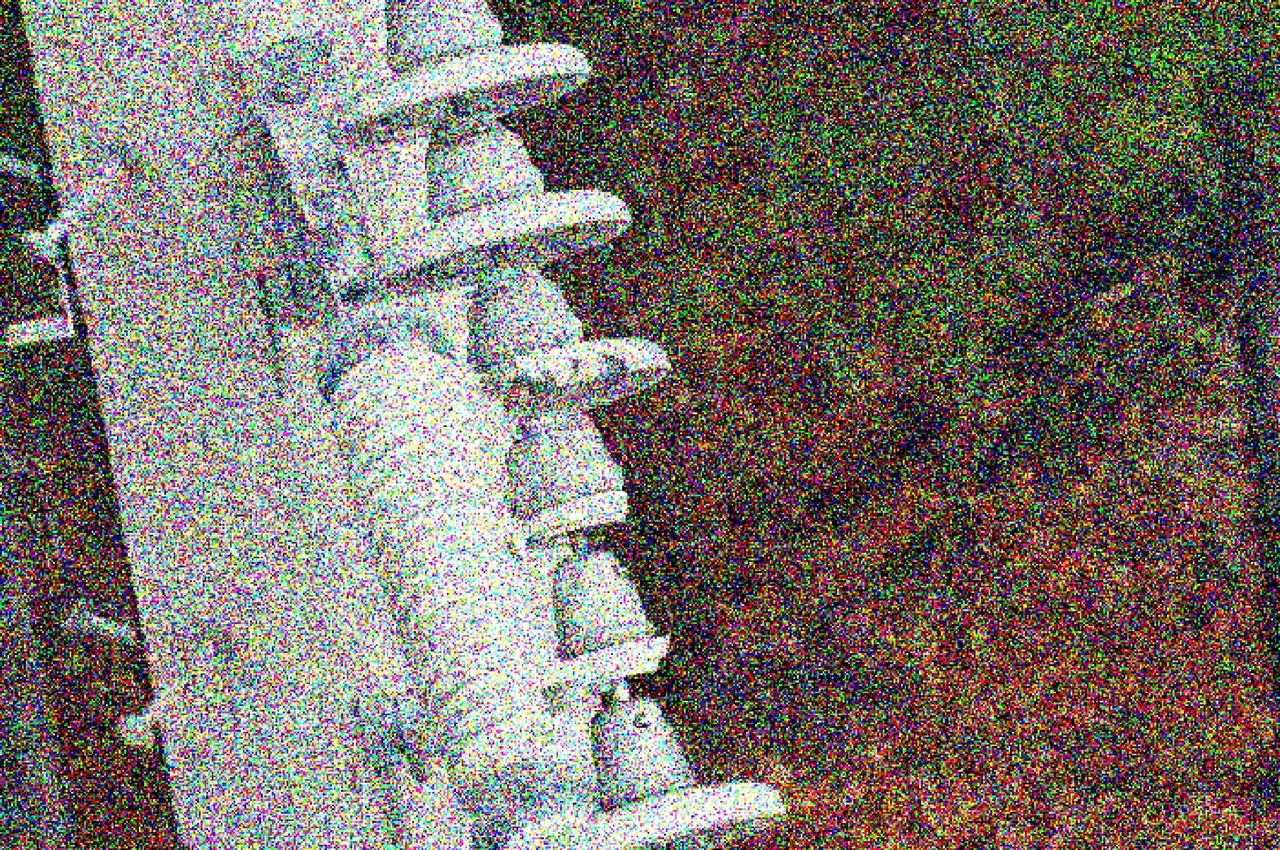Broken: (464, 259, 674, 419), (528, 546, 682, 715), (489, 403, 639, 561)
No issues: (360, 113, 639, 301), (321, 0, 594, 157), (521, 696, 784, 850)
String: (310, 0, 794, 850)
